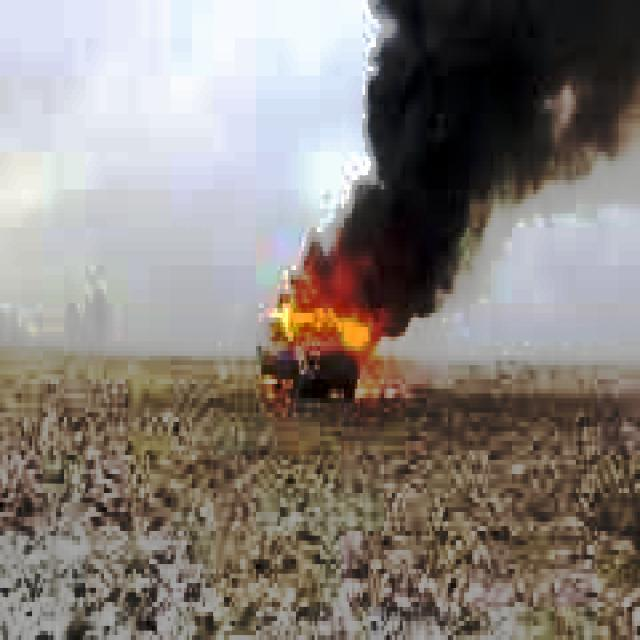api: (257, 252, 388, 404)
